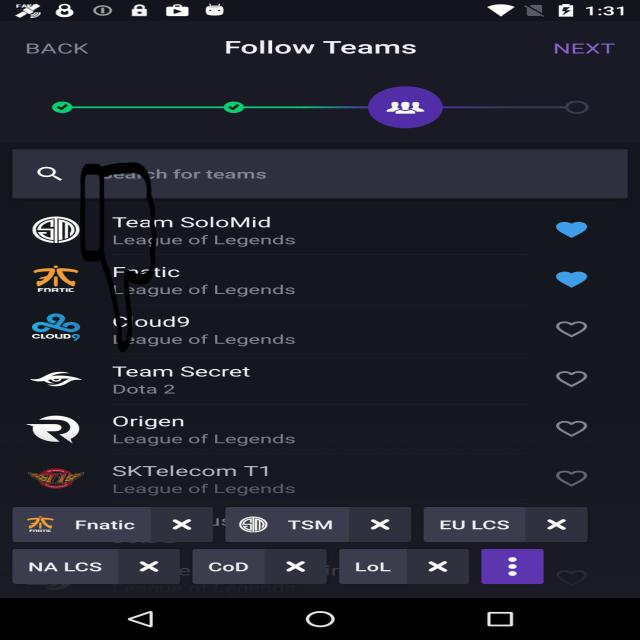obstruction: (80, 162, 158, 352)
